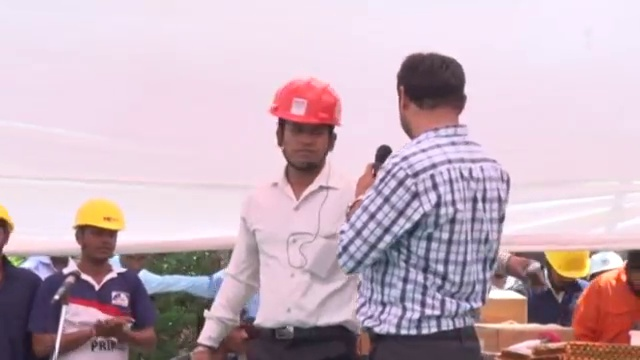helmet: (266, 79, 347, 128), (546, 246, 591, 281), (73, 203, 123, 234), (591, 246, 624, 276), (0, 204, 16, 235)
helmet_off: (382, 55, 477, 138), (195, 297, 250, 356), (118, 250, 148, 279), (625, 249, 640, 302)
helmet_on: (265, 81, 344, 186), (72, 204, 126, 272), (543, 245, 594, 295), (0, 200, 17, 256)
person: (337, 48, 511, 355), (189, 80, 358, 360), (29, 205, 163, 355), (0, 198, 53, 359), (571, 248, 640, 349), (521, 245, 592, 329), (101, 248, 207, 294)
